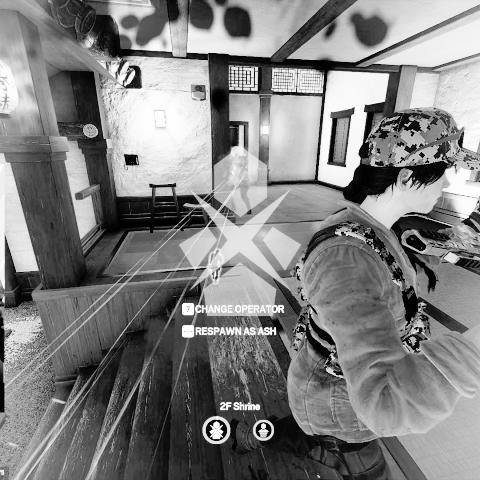Character: (229, 104, 480, 479), (226, 144, 256, 216)
Head: (356, 108, 476, 218), (231, 145, 242, 160)
